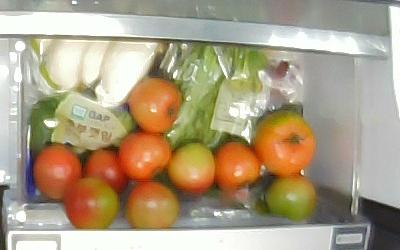tomato: (253, 110, 317, 178), (61, 174, 124, 228), (128, 77, 182, 133), (117, 131, 173, 182), (32, 145, 82, 200), (124, 180, 178, 229), (166, 143, 214, 192), (266, 175, 316, 221), (213, 143, 259, 192), (83, 150, 128, 192)
